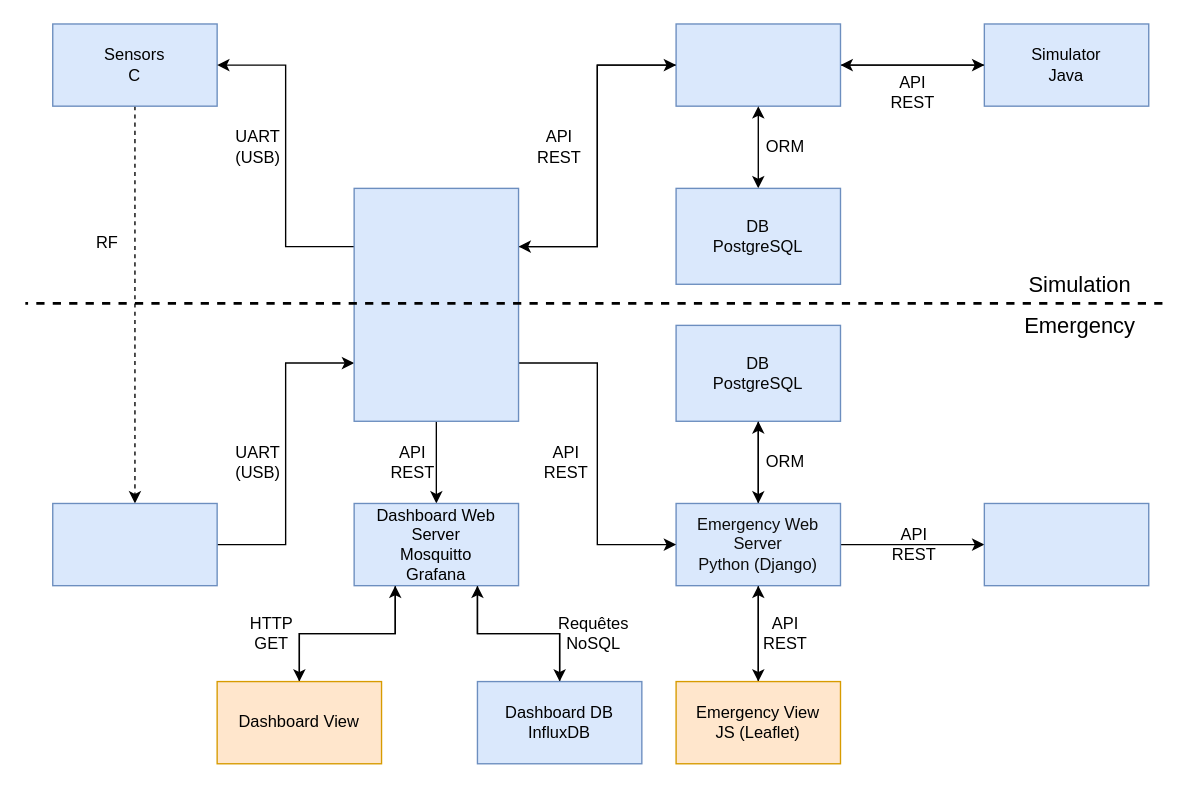
Some shapes in this 1188 by 788 pixel diagram are drawn without their labels. Each missing label, with the centre of its shape:
"Data Collect C" belongs at point (134, 544).
"Emergency Manager Java" belongs at point (1066, 544).
"Raspberry Pi / PC Python Raspberry Pi / PC Python" belongs at point (436, 304).
"Simulation Web Server Python (Django)" belongs at point (757, 64).
